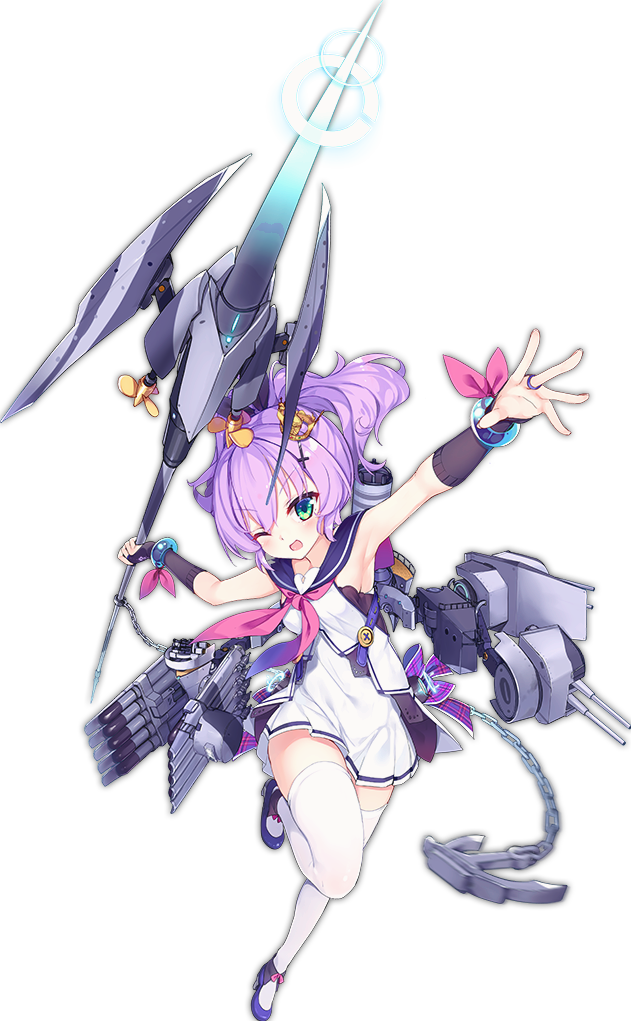person: (55, 369, 527, 1021)
